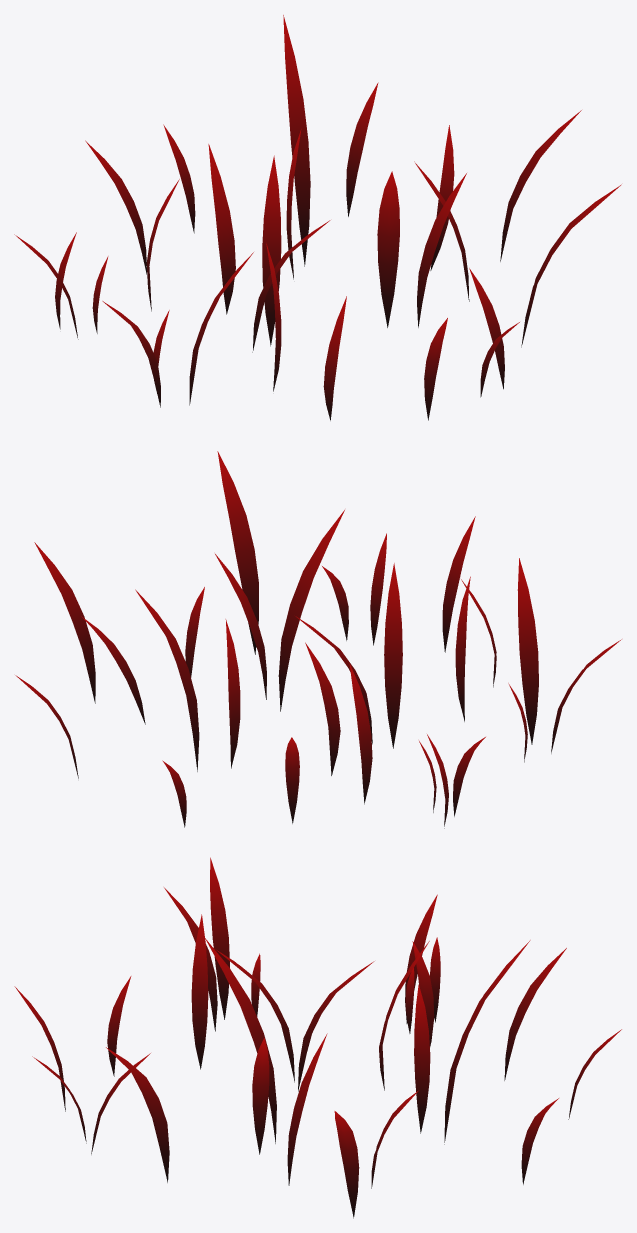
File: Grass_LOD0.fbx
3 renders of one model, top to bottom at view 1: azimuth 30°, elevation 25°; view 2: azimuth 150°, elevation 25°; view 3: azimuth 270°, elevation 25°, orthographic. The views are drawn at different scales.
Visible parts, largest first — view 1: Grass; view 2: Grass; view 3: Grass.
Part boxes in pixels (x1,y1,x2,y2): Grass: (14, 15, 621, 420); Grass: (15, 451, 621, 828); Grass: (14, 857, 621, 1218).
Bounding box in the file's own units: 1.11 × 0.4231 × 1.08.
